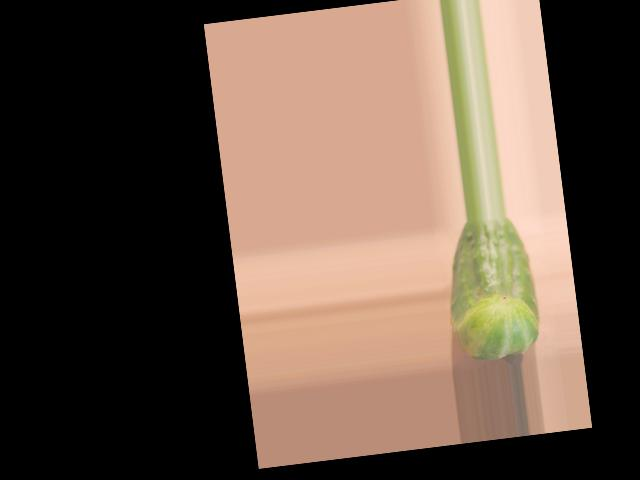cucumber: (439, 213, 544, 363)
